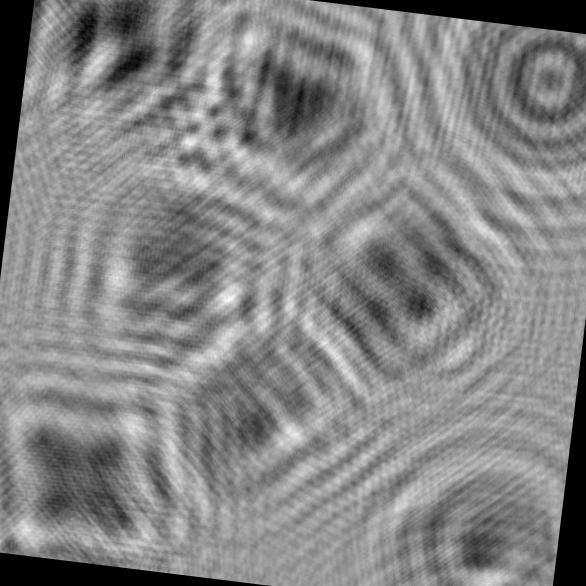A: (148, 0, 427, 239)
H: (254, 143, 546, 425)
J: (359, 404, 571, 586)
L: (132, 282, 406, 557)
O: (385, 12, 586, 246)
T: (36, 152, 320, 415)
W: (12, 0, 241, 202)
X: (0, 345, 214, 575)
